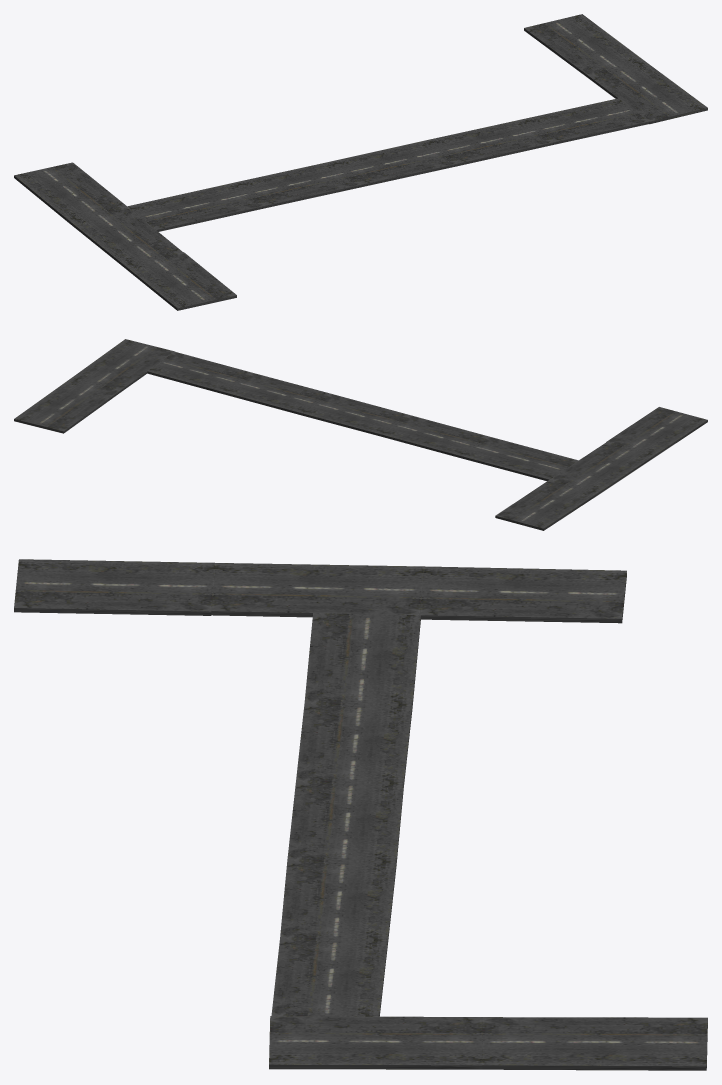
Rendered from Road_3__11_.fbx.
The picture shows the model from 3 angles, top to bottom: view 1: azimuth 30°, elevation 25°; view 2: azimuth 150°, elevation 25°; view 3: azimuth 270°, elevation 25°; orthographic projection. The views are drawn at different scales.
Visible parts, largest first — view 1: Road_3__11_; view 2: Road_3__11_; view 3: Road_3__11_.
Boxes of the visible parts, x1,y1,x2,y2 form: Road_3__11_: [14, 14, 707, 310]; Road_3__11_: [14, 339, 707, 530]; Road_3__11_: [14, 559, 707, 1070].
Size of the model in its own units: 11514 by 47.04 by 6660.
1 material, 1 textured.
